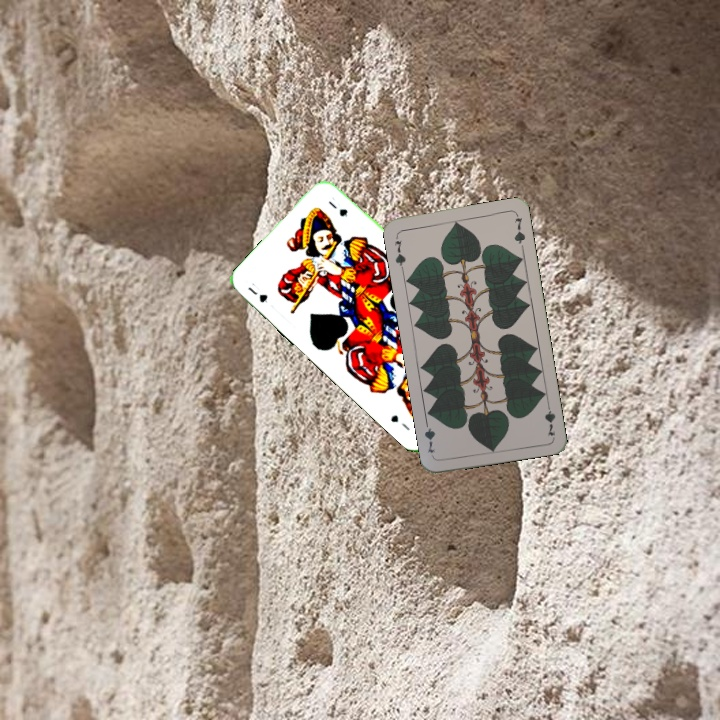G7: (540, 398, 558, 439), (390, 236, 408, 272)
GU: (244, 278, 270, 305)
